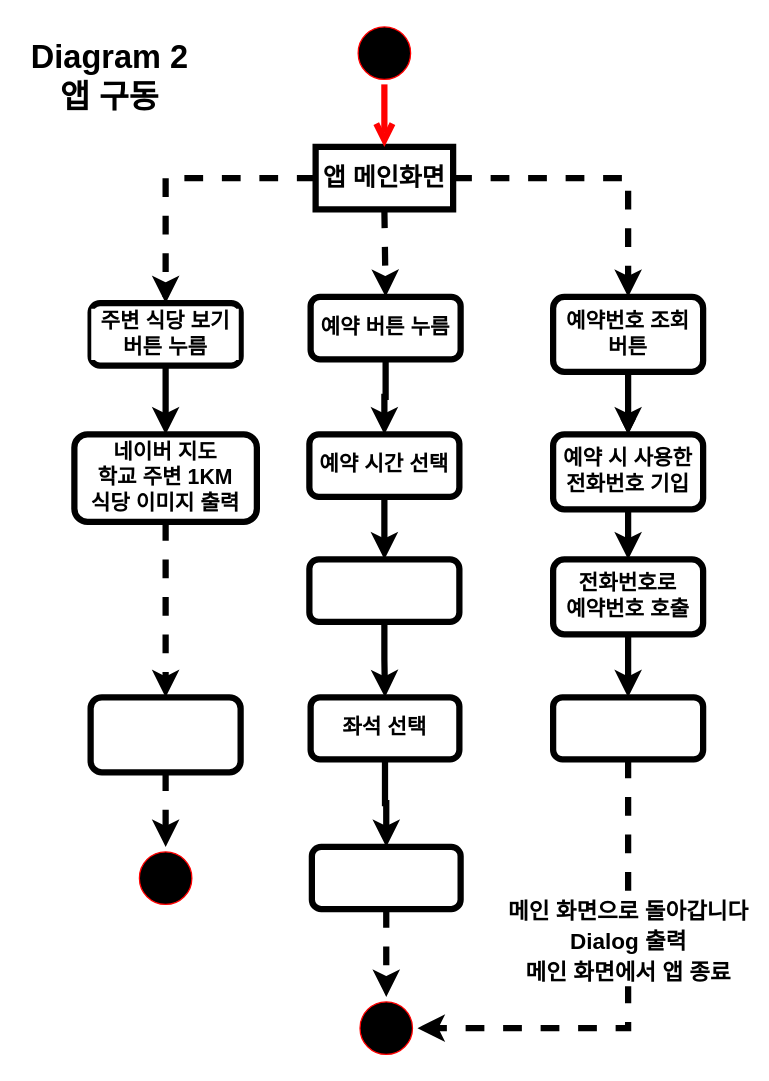
This 769x1081 diagram has some shape labels left out. The shapes that lost their labels are listed below. From the top down, each one's centre as x and y in pixels, then its label:
the point at 384,590: 예약 인원(<=3) 선택
the point at 165,734: 네이버 지도 페이지 연결
the point at 627,728: 예약번호 출력
the point at 385,877: 예약코드 생성 및 출력
